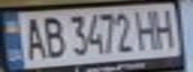2: (112, 9, 136, 53)
3: (66, 11, 87, 56)
4: (84, 10, 103, 55)
7: (100, 10, 118, 54)
A: (18, 14, 48, 61)
B: (39, 12, 66, 60)
H: (133, 7, 163, 51), (151, 6, 178, 49)
